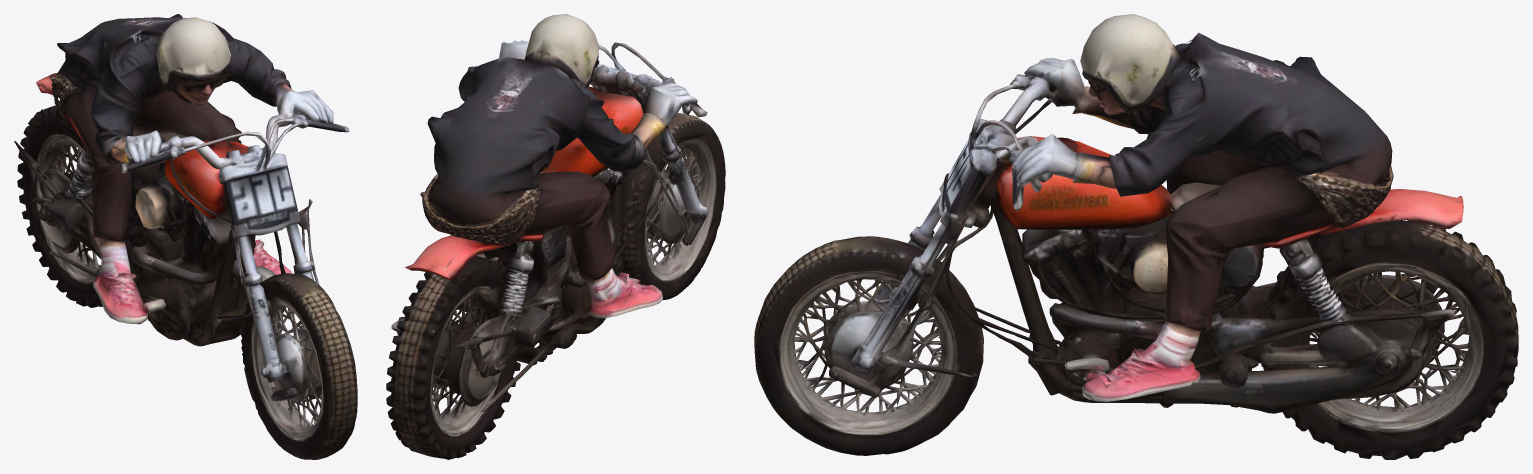
The model's file is moto.glb.
3 renders of one model, left to right at view 1: azimuth 30°, elevation 25°; view 2: azimuth 150°, elevation 25°; view 3: azimuth 270°, elevation 25°, orthographic. The views are drawn at different scales.
Parts seen in each view (by area): view 1: Object_4; view 2: Object_4; view 3: Object_4.
Part boxes in pixels (box(x1,y1,x2,y2)): Object_4: box(14, 14, 357, 459); Object_4: box(386, 14, 725, 459); Object_4: box(754, 14, 1518, 459).
Bounding box in the file's own units: 0.4478 × 0.6945 × 1.11.
1 material, 1 textured.
